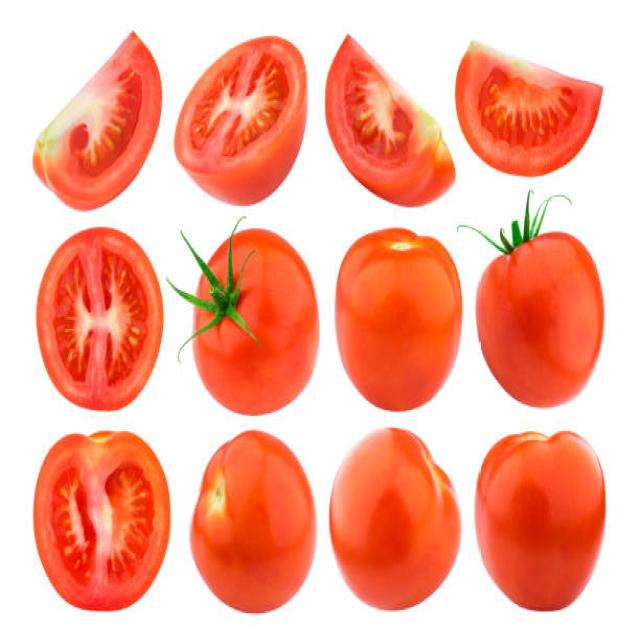Tomato: (29, 426, 181, 626), (22, 223, 173, 415), (179, 27, 325, 216), (25, 30, 170, 209), (450, 19, 601, 190), (320, 27, 455, 213)
